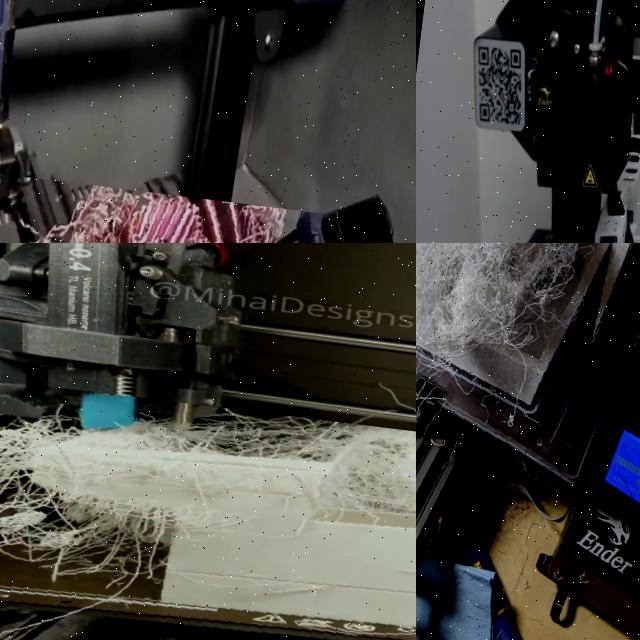spaghetti: (0, 374, 416, 640), (416, 243, 640, 469), (0, 163, 326, 243)
